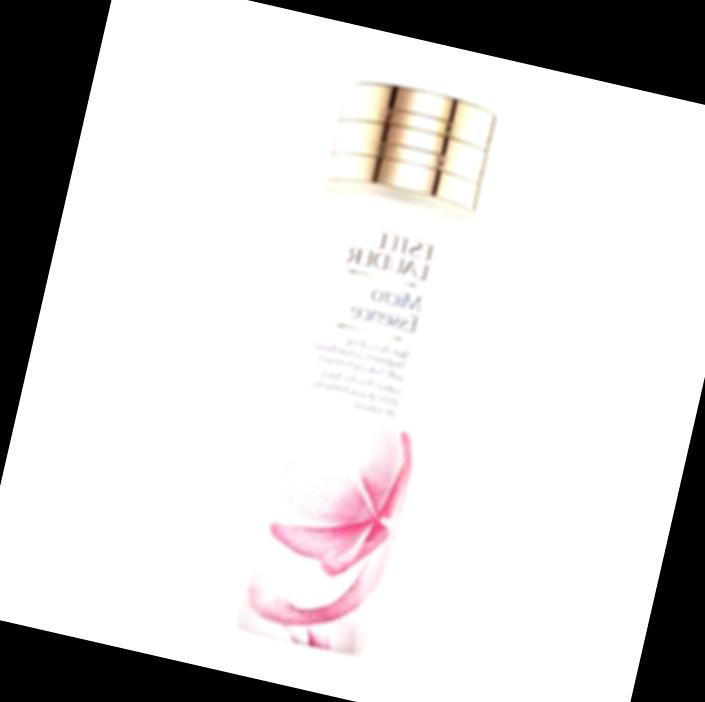cosmetic: (225, 79, 490, 659)
